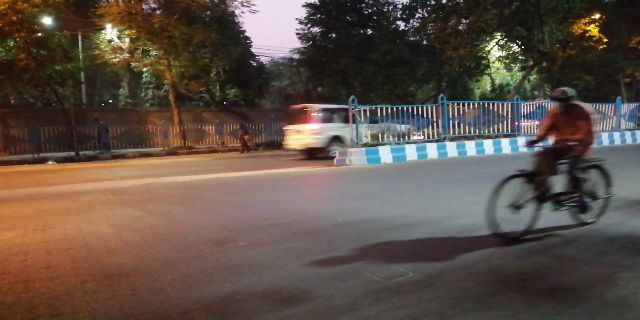Car: (284, 102, 413, 153)
Cycle: (486, 89, 614, 239)
